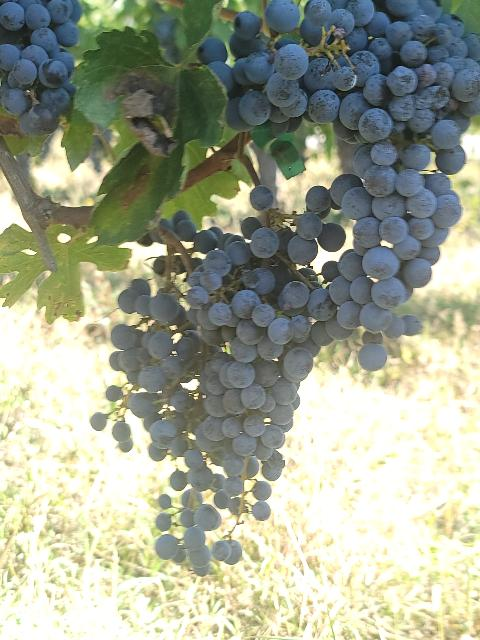grapes: (338, 0, 480, 371), (105, 279, 260, 576), (188, 219, 329, 521), (198, 0, 375, 138), (0, 0, 82, 140)
